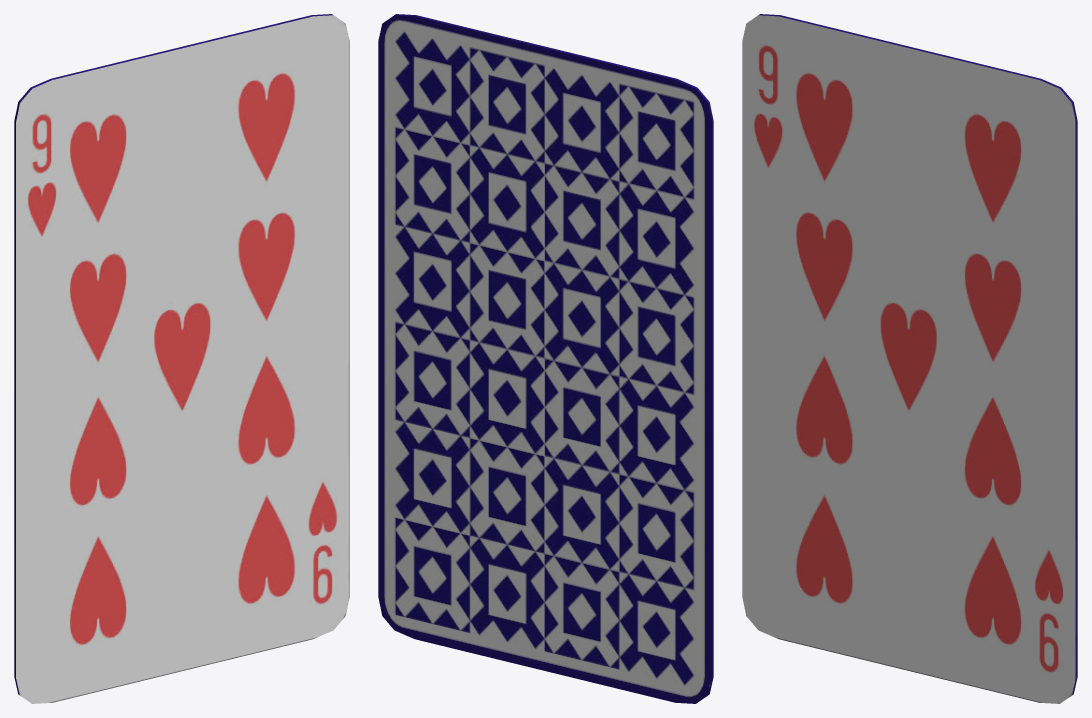
The picture shows the model from 3 angles, left to right: view 1: azimuth 30°, elevation 25°; view 2: azimuth 150°, elevation 25°; view 3: azimuth 330°, elevation 25°; orthographic projection.
Parts seen in each view (by area): view 1: Nine of Hearts; view 2: Nine of Hearts; view 3: Nine of Hearts.
Part boxes in pixels (x1,y1,x2,y2): Nine of Hearts: [14, 14, 349, 703]; Nine of Hearts: [378, 14, 713, 703]; Nine of Hearts: [742, 14, 1077, 703].
Size of the model in its own units: 1.43 by 2.54 by 0.0125.
3 materials, 3 textured.
